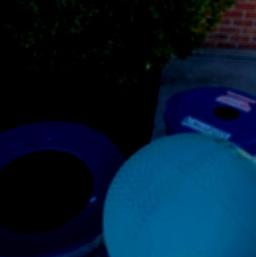algae: (100, 130, 256, 257), (0, 115, 133, 257)
